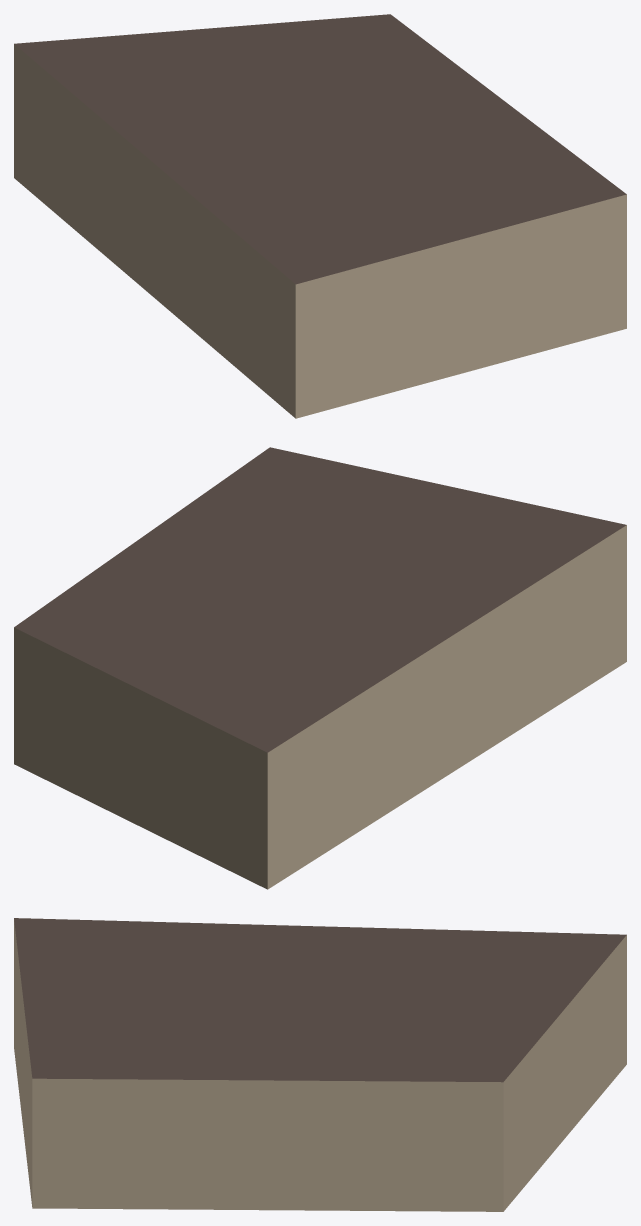
3 renders of one model, top to bottom at view 1: azimuth 30°, elevation 25°; view 2: azimuth 150°, elevation 25°; view 3: azimuth 270°, elevation 25°, orthographic. The views are drawn at different scales.
Visible parts, largest first — view 1: HP-w859091085; view 2: HP-w859091085; view 3: HP-w859091085.
Boxes of the visible parts, left/top/right/bottom form: HP-w859091085: left=14, top=14, right=626, bottom=418; HP-w859091085: left=14, top=447, right=626, bottom=889; HP-w859091085: left=14, top=918, right=626, bottom=1211.
Bounding box in the file's own units: 24.41 × 9 × 38.53.
